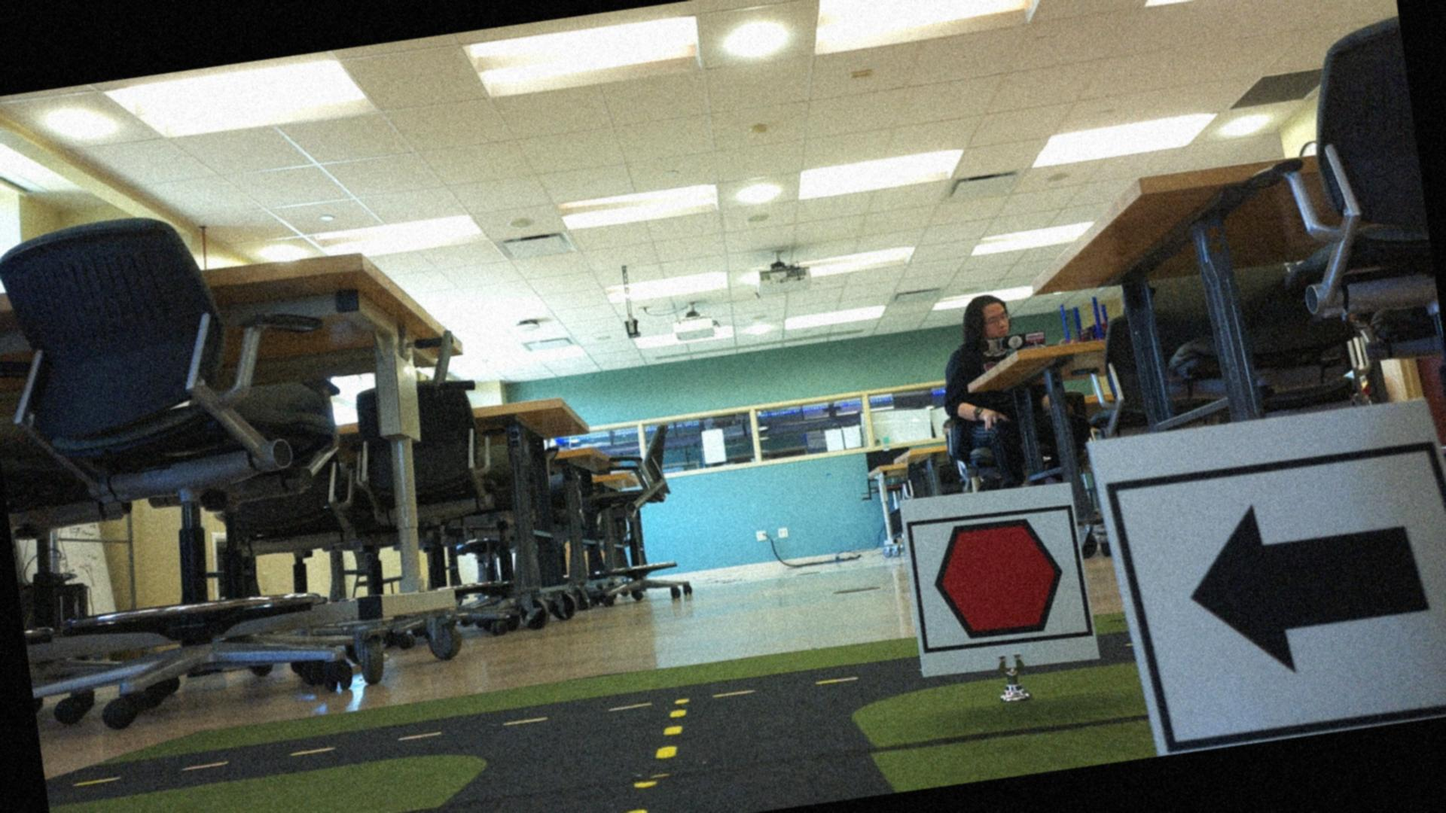stop: (905, 507, 1088, 653)
turnright: (1121, 444, 1445, 751)
yellowline: (605, 707, 699, 812)
